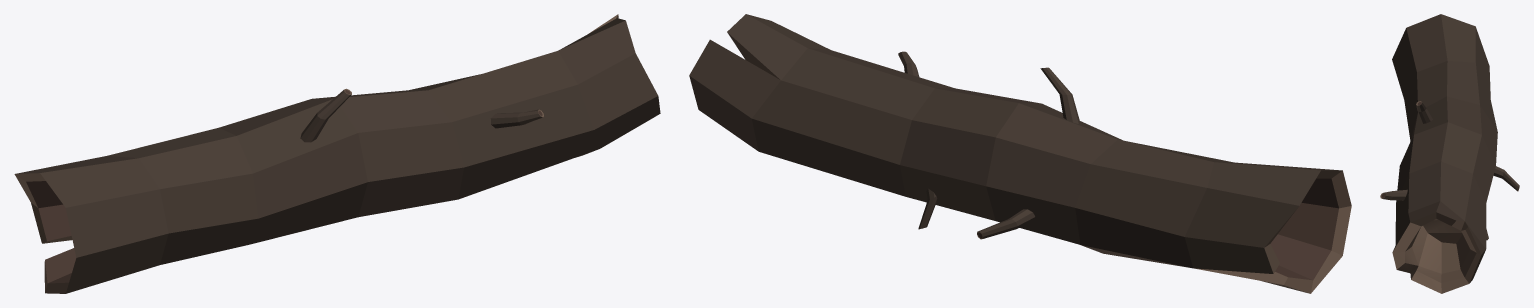
Rendered from Fallentree2.fbx.
3 views of the same model, side by side, from view 1: azimuth 30°, elevation 25°; view 2: azimuth 150°, elevation 25°; view 3: azimuth 270°, elevation 25° (orthographic). The views are drawn at different scales.
Parts seen in each view (by area): view 1: Fallen tree2; view 2: Fallen tree2; view 3: Fallen tree2.
Boxes of the visible parts, x1,y1,x2,y2 form: Fallen tree2: (14, 14, 660, 293); Fallen tree2: (689, 14, 1351, 293); Fallen tree2: (1380, 14, 1519, 293).
Size of the model in its own units: 211 by 49.67 by 57.08.
